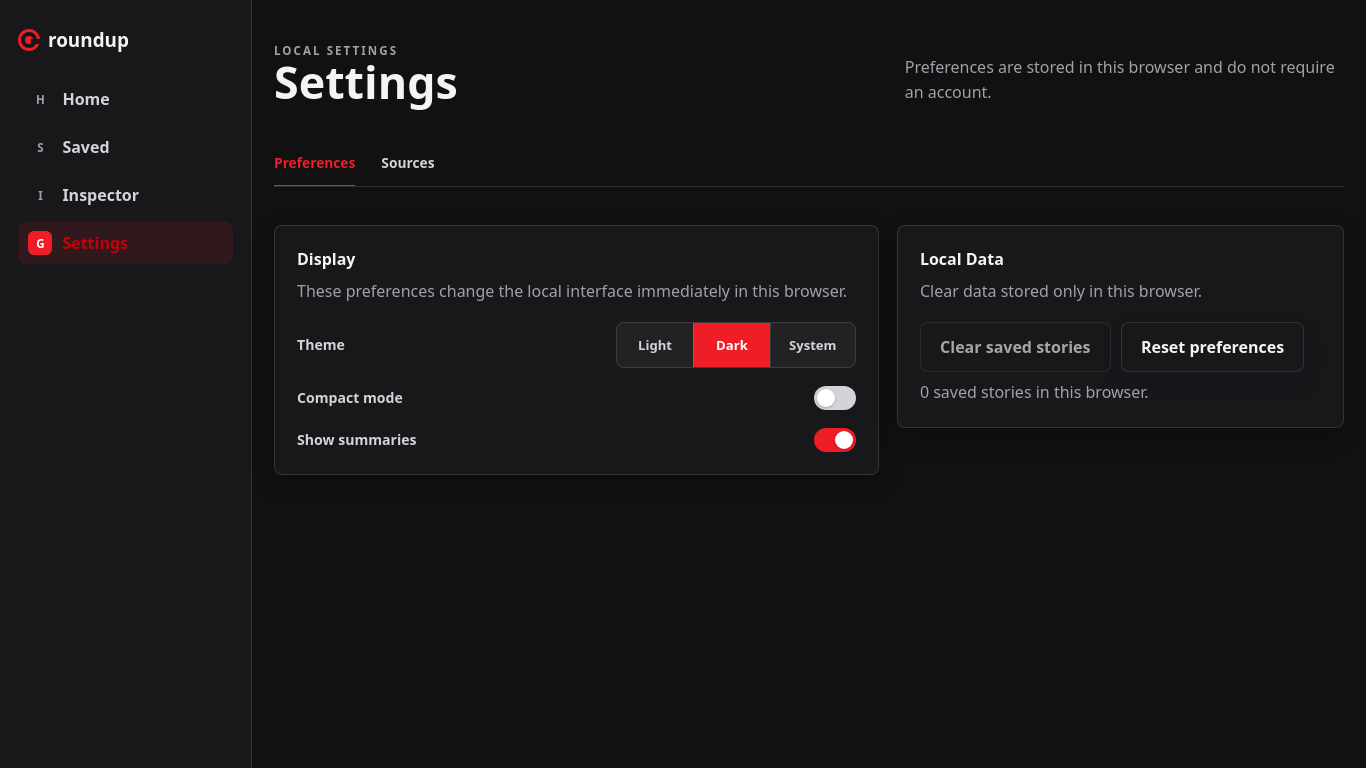
Test: SettingsPage › shows a graceful unavailable empty state for missing source metadata
The image size is (1366, 768).
Step 1. Click the tab "Sources" → (408, 162), box [381,139,434,186]
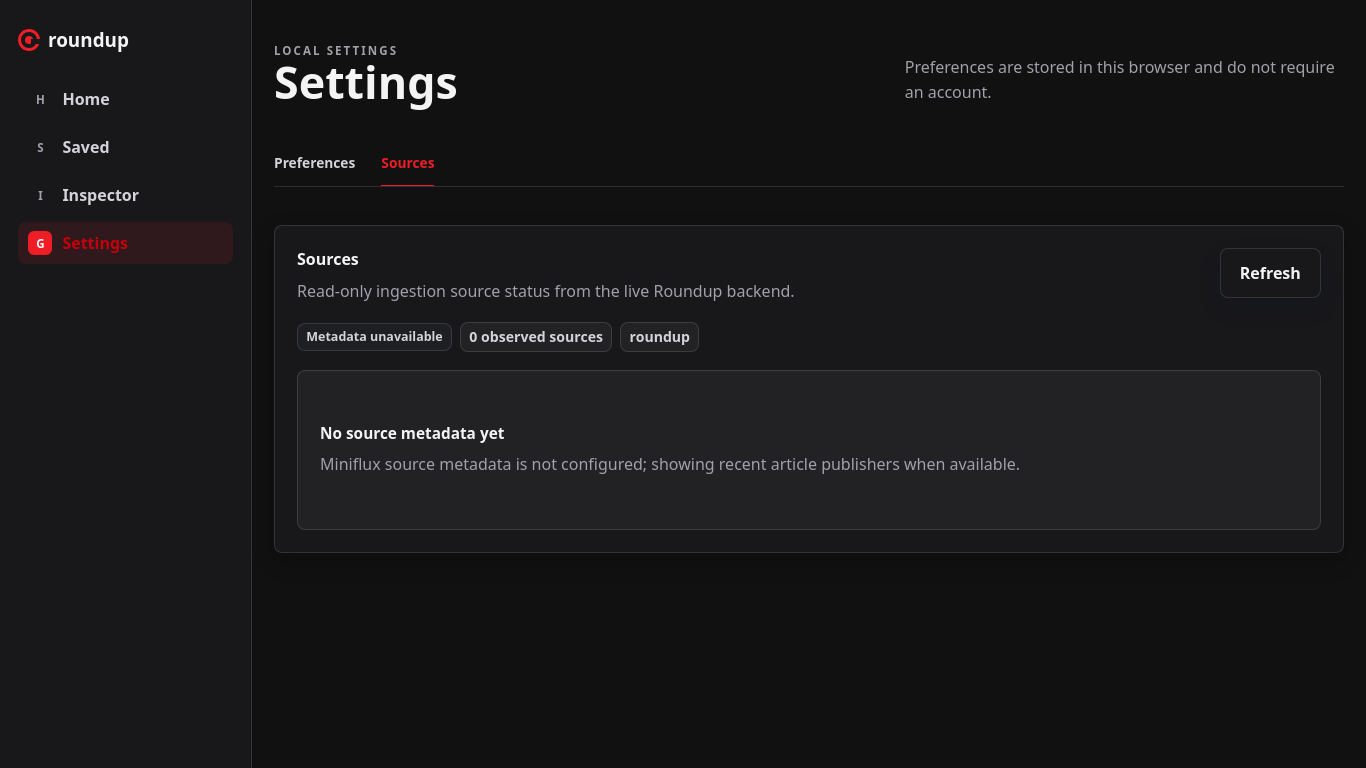
Check: the text "Metadata unavailable" is shown, box [297,323,452,351]
Check: the heading "No source metadata yet" is shown, box [320,423,504,444]
Check: the text "Miniflux source metadata is not configured" is shown, box [320,453,1020,475]
